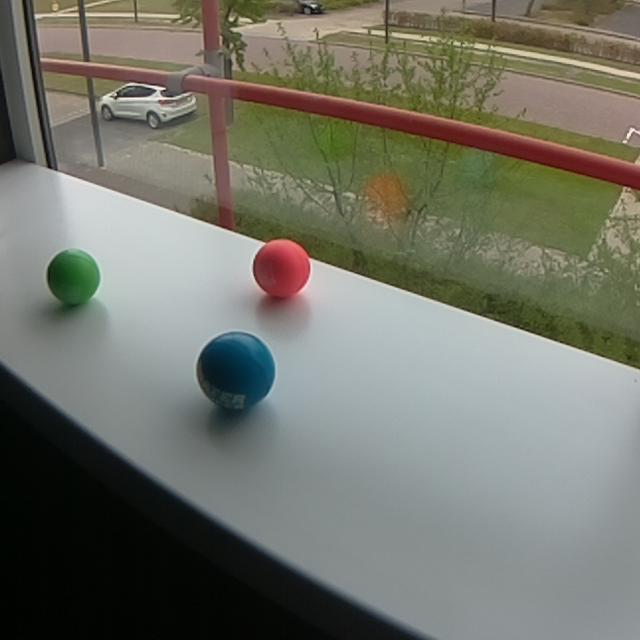ball: (192, 327, 278, 420), (248, 234, 312, 300), (42, 245, 102, 310)
